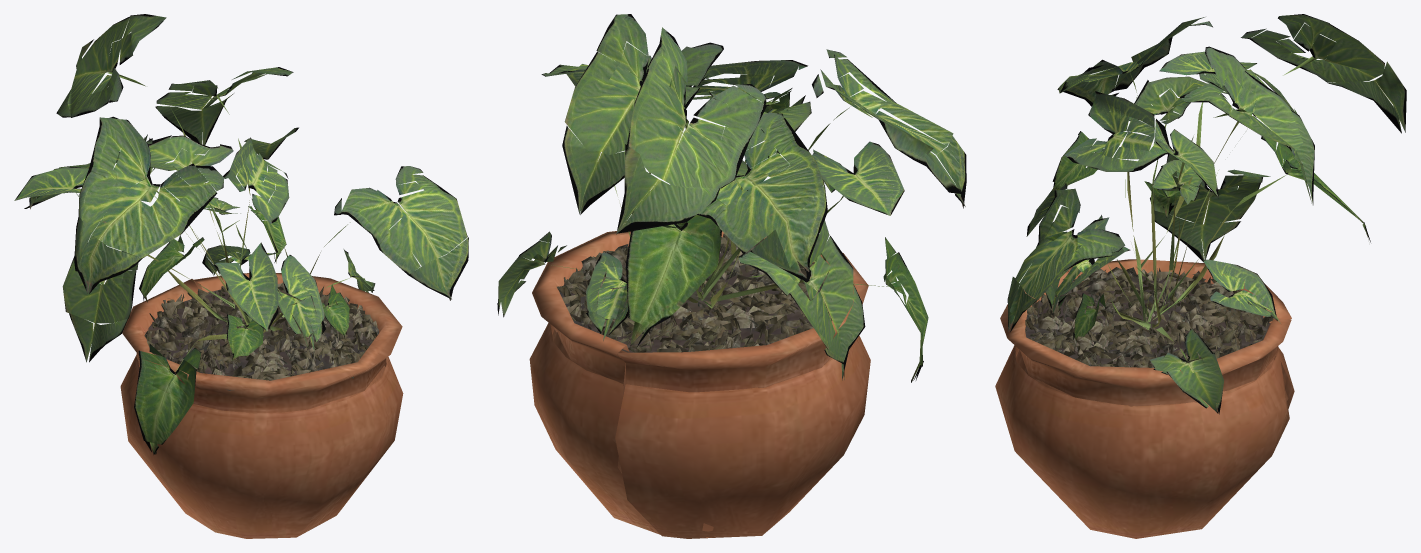
File: isl_pot.glb
3 views of the same model, side by side, from view 1: azimuth 30°, elevation 25°; view 2: azimuth 150°, elevation 25°; view 3: azimuth 270°, elevation 25° (orthographic). The views are drawn at different scales.
Parts seen in each view (by area): view 1: potted_plant_02_pot; view 2: potted_plant_02_pot; view 3: potted_plant_02_pot.
Part boxes in pixels (<box>): potted_plant_02_pot: <box>14,14,468,538</box>; potted_plant_02_pot: <box>497,14,966,538</box>; potted_plant_02_pot: <box>995,14,1406,538</box>.
Size of the model in its own units: 0.6967 by 0.8416 by 0.6616.
Materials: 2 (2 with a texture image).
